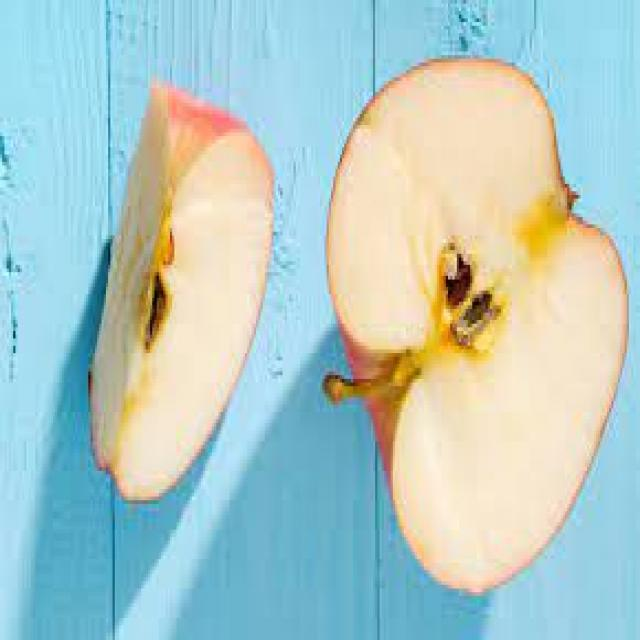Apple: (322, 59, 626, 596), (89, 83, 271, 500)
